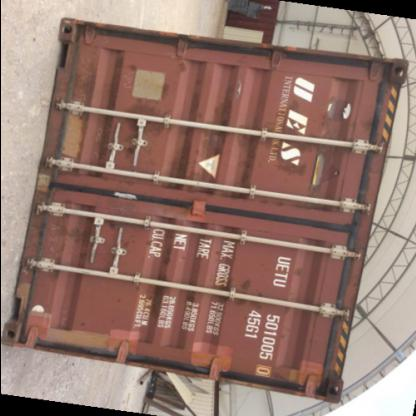Damage: (22, 173, 67, 282), (42, 324, 138, 361), (54, 100, 80, 171), (128, 98, 172, 138)
